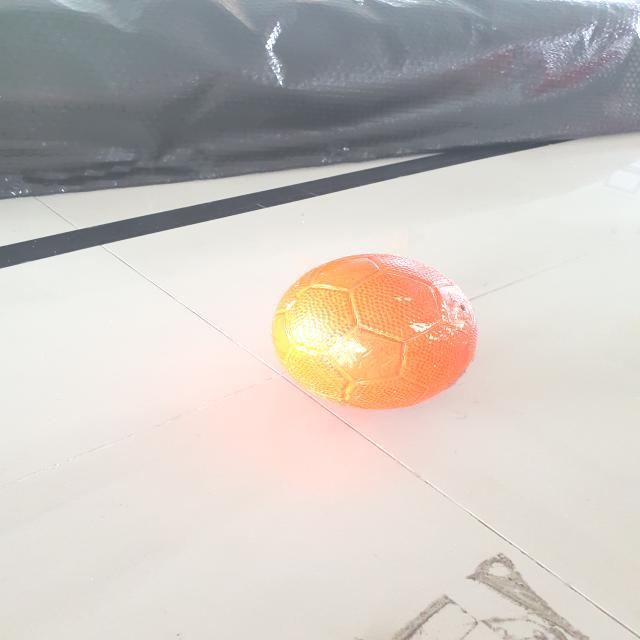bola: (268, 251, 483, 418)
